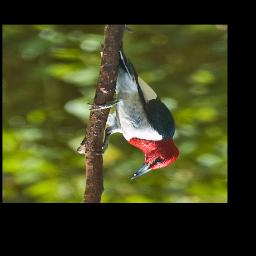Woodpecker: (88, 45, 181, 179)
